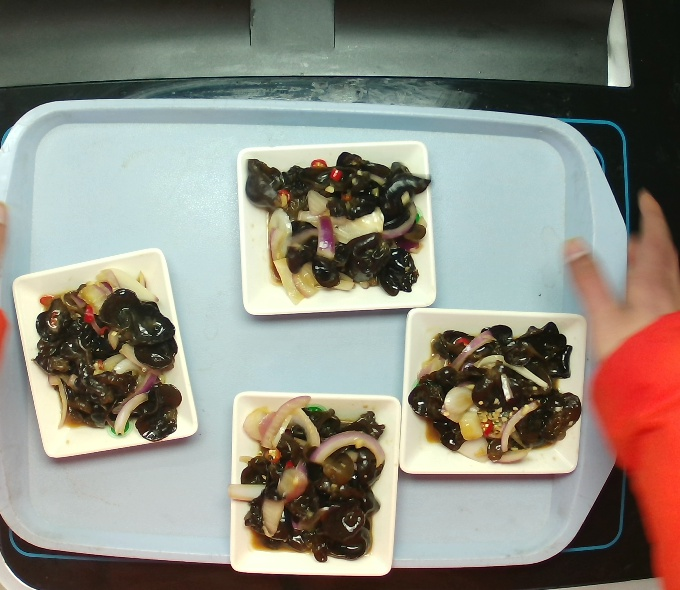wcq-LiangBanMuEr: (240, 132, 429, 319), (226, 385, 395, 572), (409, 318, 583, 466), (27, 280, 189, 435)
